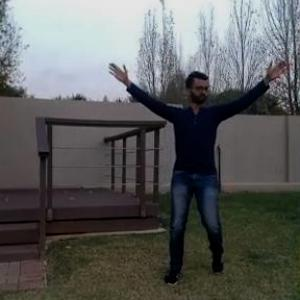takeoff: (106, 53, 296, 287)
